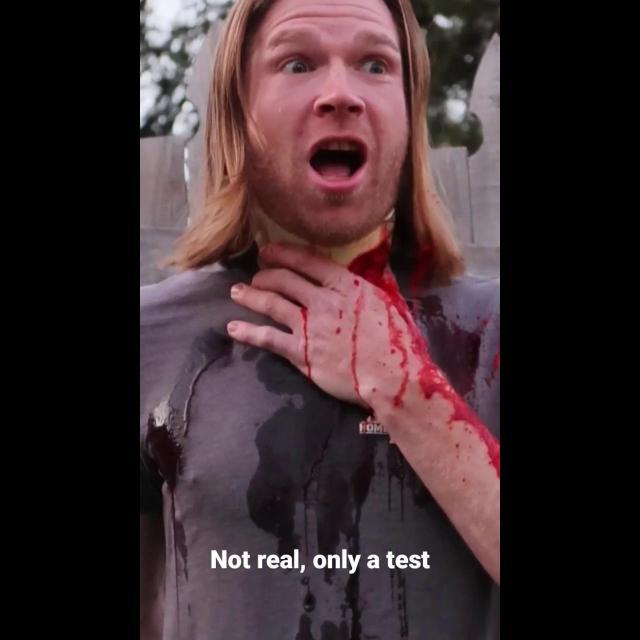blood: (348, 240, 500, 480), (300, 306, 315, 382)
